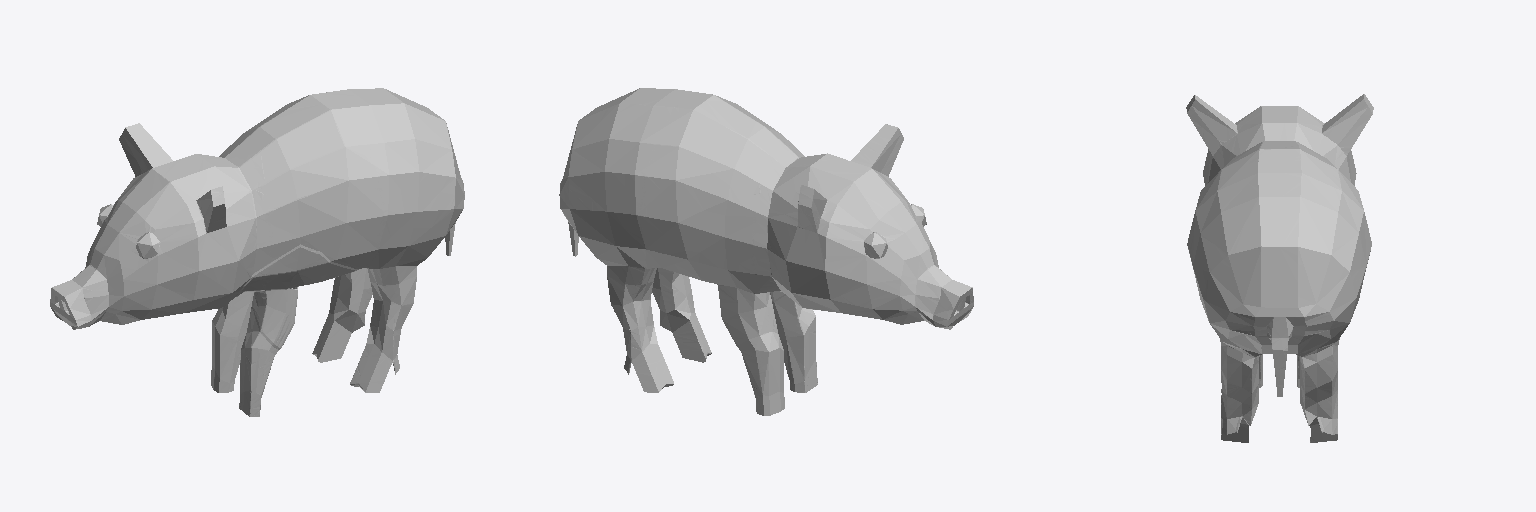
Rendered from pig.obj.
The picture shows the model from 3 angles: view 1: azimuth 30°, elevation 25°; view 2: azimuth 150°, elevation 25°; view 3: azimuth 270°, elevation 25°; orthographic projection.
Visible parts, largest first — view 1: EN3MAX_Low_Poly_Pig; view 2: EN3MAX_Low_Poly_Pig; view 3: EN3MAX_Low_Poly_Pig.
Part boxes in pixels (bbox=[...]): EN3MAX_Low_Poly_Pig: bbox=[50, 88, 464, 416]; EN3MAX_Low_Poly_Pig: bbox=[559, 88, 973, 415]; EN3MAX_Low_Poly_Pig: bbox=[1186, 94, 1373, 442].
Size of the model in its own units: 73 by 48.61 by 29.92.